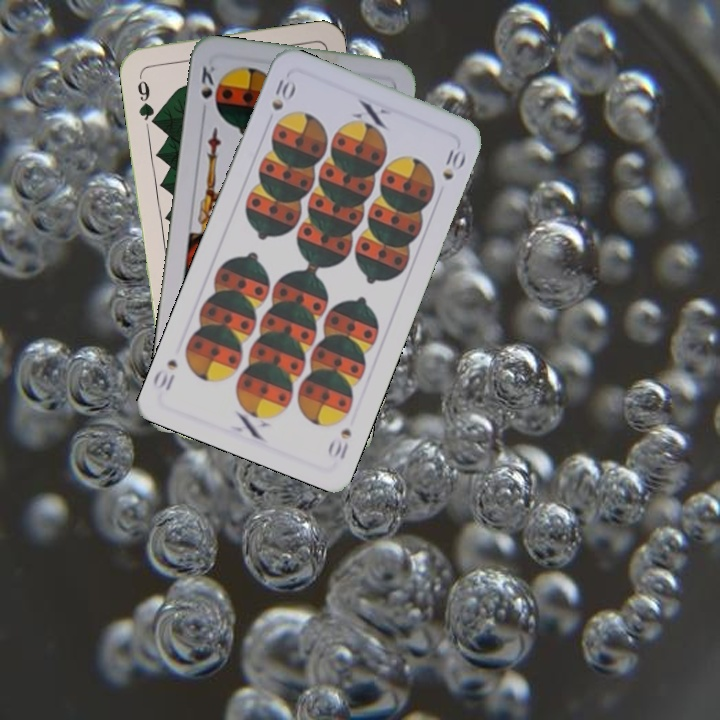G9: (133, 68, 159, 126)
S10: (267, 74, 299, 113), (324, 424, 354, 462)
SK: (196, 62, 218, 119)
